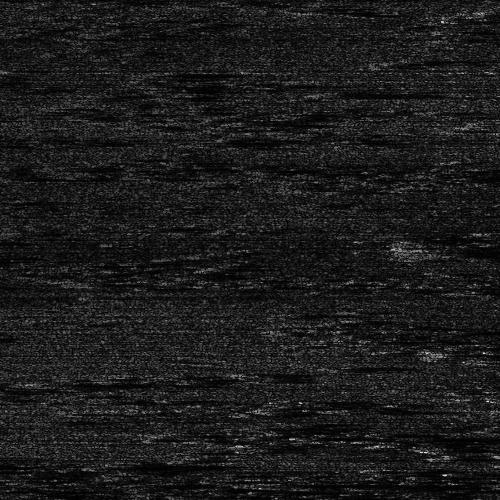object: (359, 242, 464, 261), (82, 461, 155, 468), (223, 480, 296, 487), (0, 381, 63, 386), (303, 89, 356, 94), (471, 453, 500, 458)
shadow: (412, 242, 500, 261), (260, 480, 432, 487), (118, 461, 251, 468), (32, 381, 178, 386), (330, 89, 430, 94)
